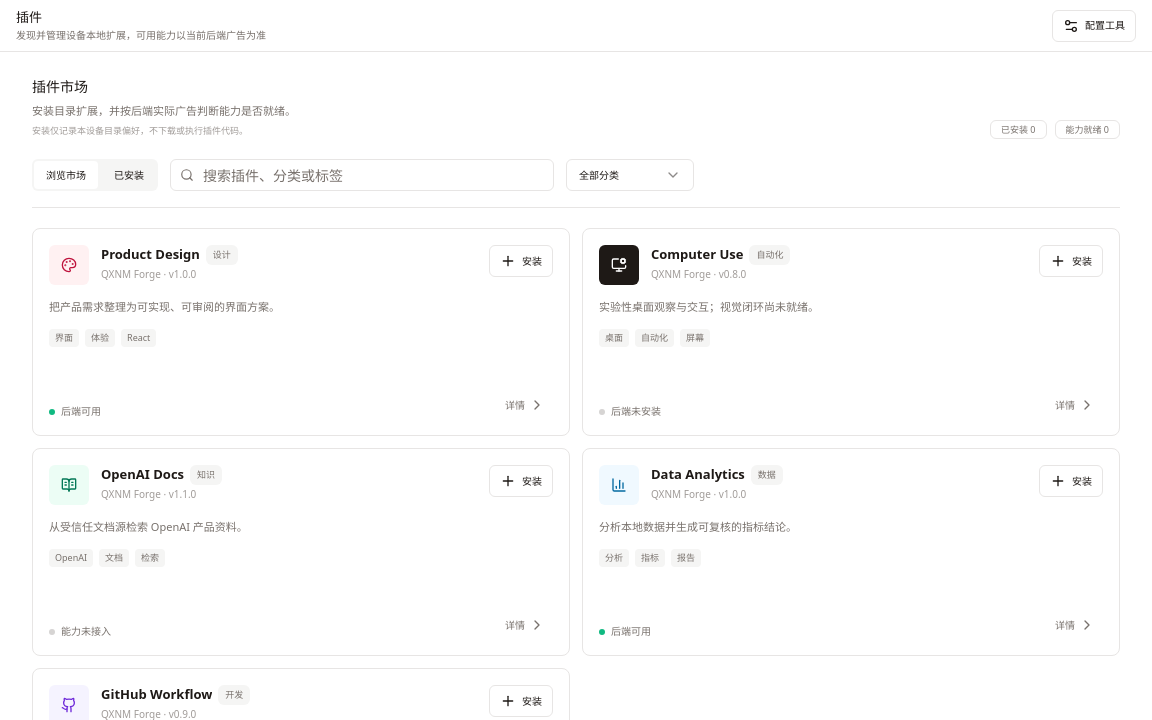
PluginWorkspace › persists local install and enable preferences
Step 1. Click the button with aria-label "安装 Product Design" → (521, 261), box [489,245,553,277]
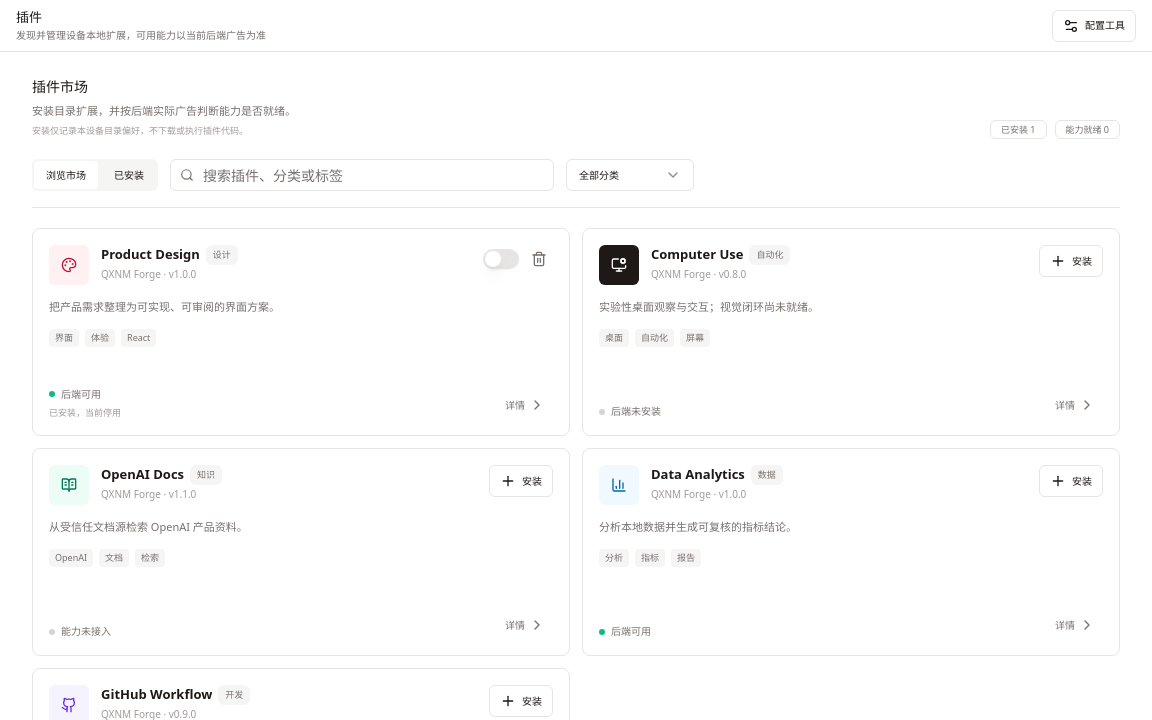
Check: the switch named "启用 Product Design 插件" is not checked
Step 2. Click the switch named "启用 Product Design 插件" → (501, 259), box [483,249,519,269]
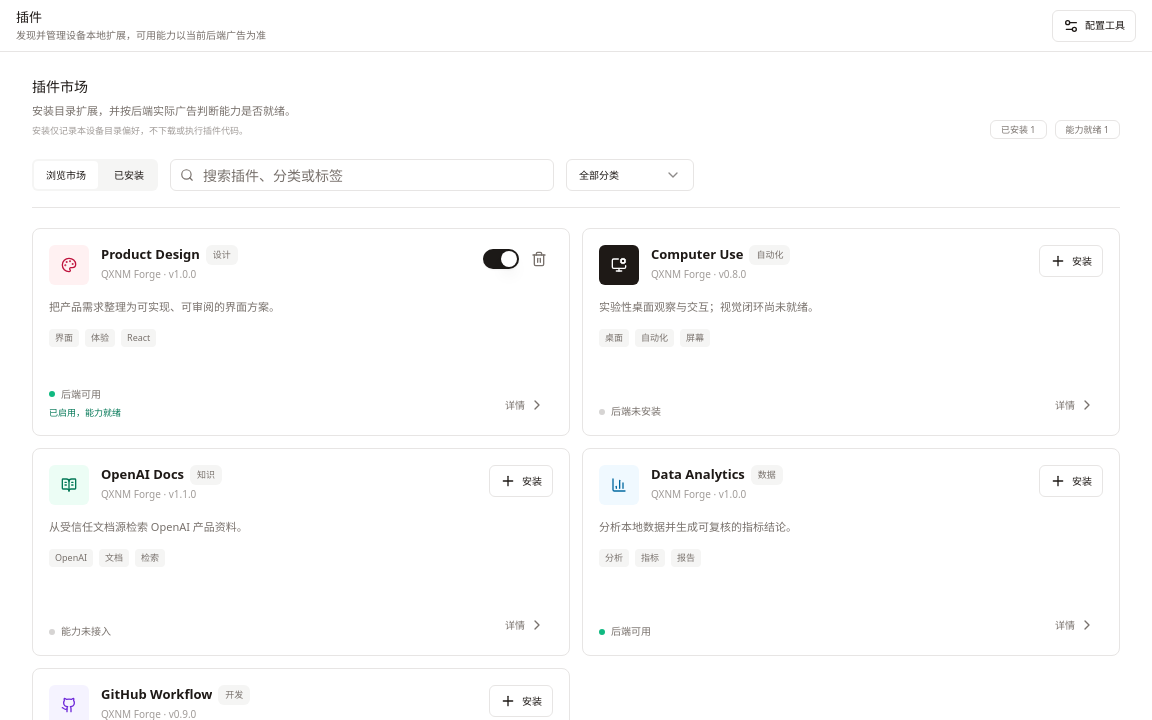
Check: the switch named "启用 Product Design 插件" is checked
Step 3. Click the switch named "启用 Product Design 插件" → (501, 259), box [483,249,519,269]
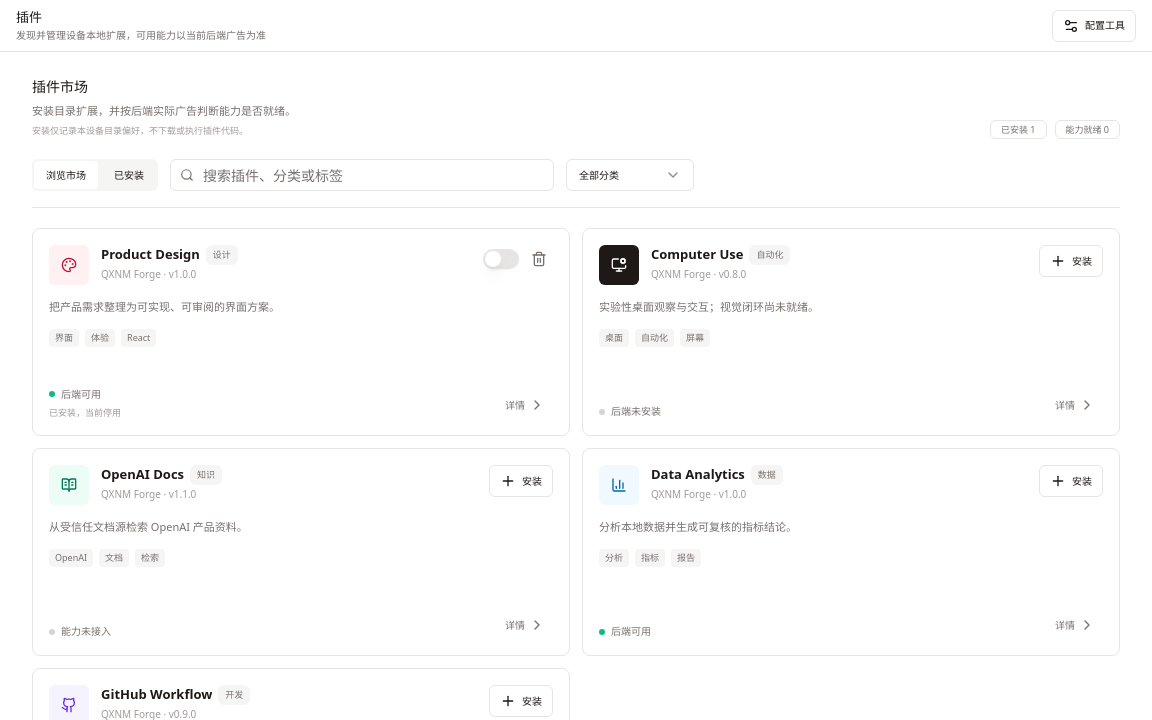
Check: the switch named "启用 Product Design 插件" is not checked, box [483,249,519,269]
Step 4. Click the button named "卸载 Product Design" → (539, 259), box [525,245,553,273]
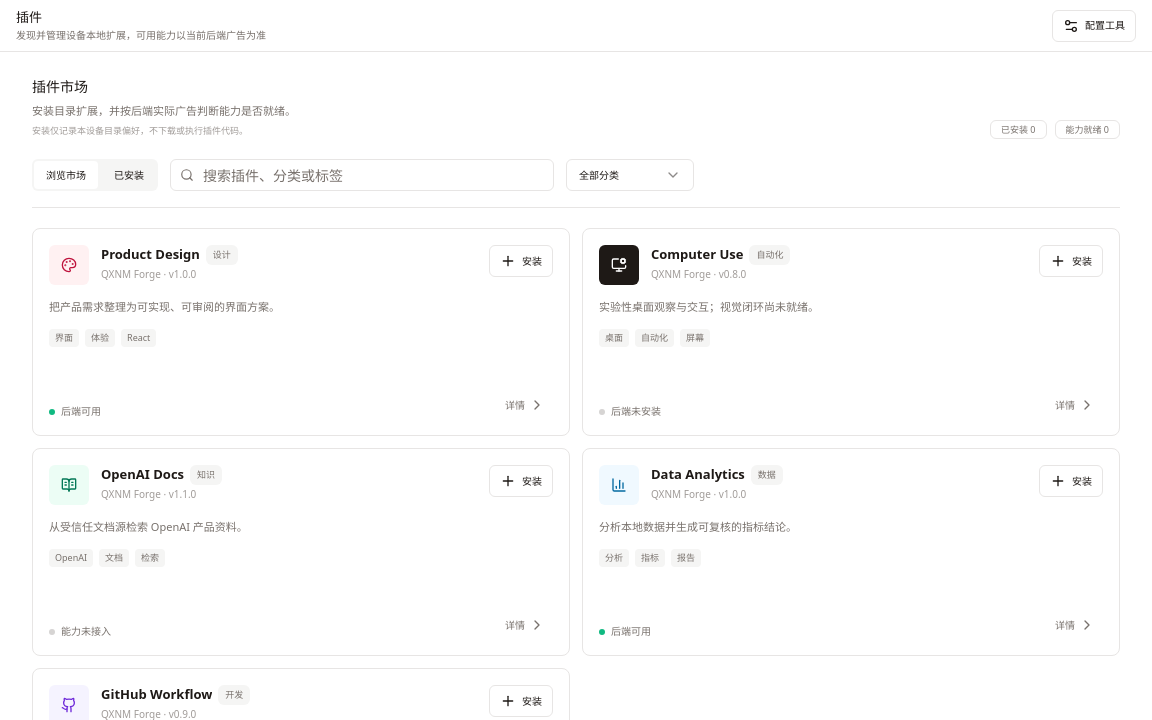
Check: the button with aria-label "安装 Product Design" is shown, box [489,245,553,277]
